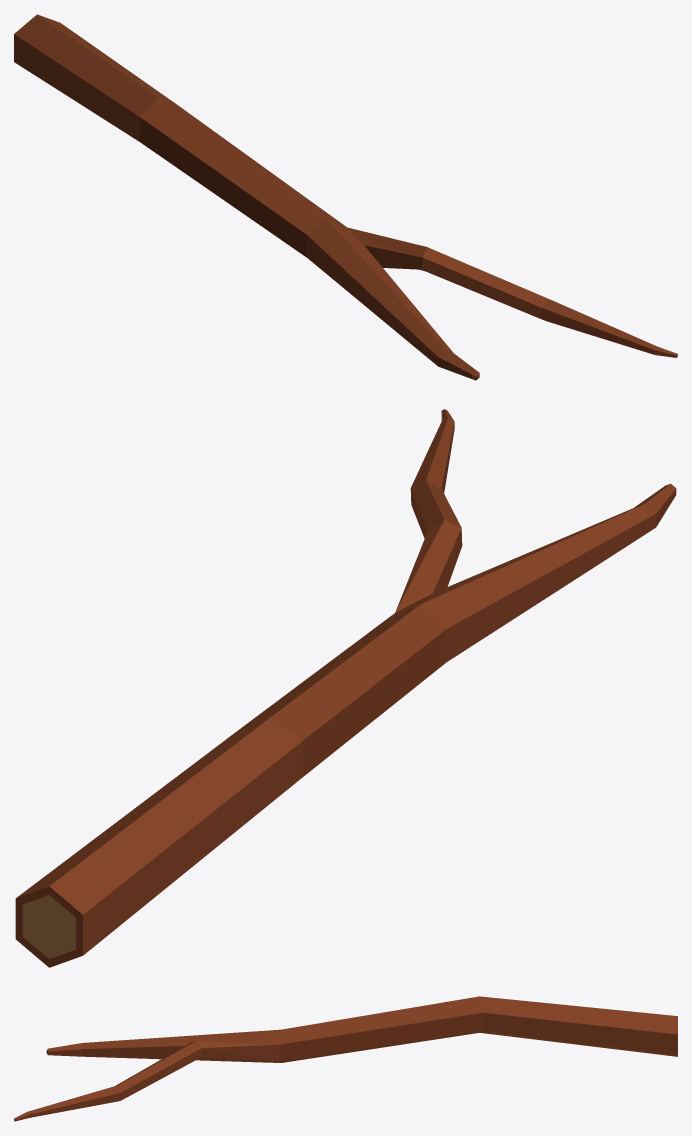
The model's file is Log_2.gltf.
3 views of the same model, one above another, from view 1: azimuth 30°, elevation 25°; view 2: azimuth 150°, elevation 25°; view 3: azimuth 270°, elevation 25° (orthographic). The views are drawn at different scales.
Visible parts, largest first — view 1: Log_2; view 2: Log_2; view 3: Log_2.
Boxes of the visible parts, box(x1,y1,x2,y2) form: Log_2: box(14, 14, 677, 380); Log_2: box(15, 409, 676, 967); Log_2: box(14, 996, 677, 1121).
Bounding box in the file's own units: 0.5334 × 0.1748 × 1.9.
